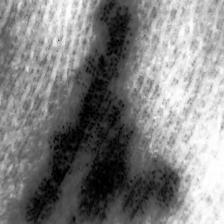Benign Marking or Mole: (23, 0, 176, 224)
